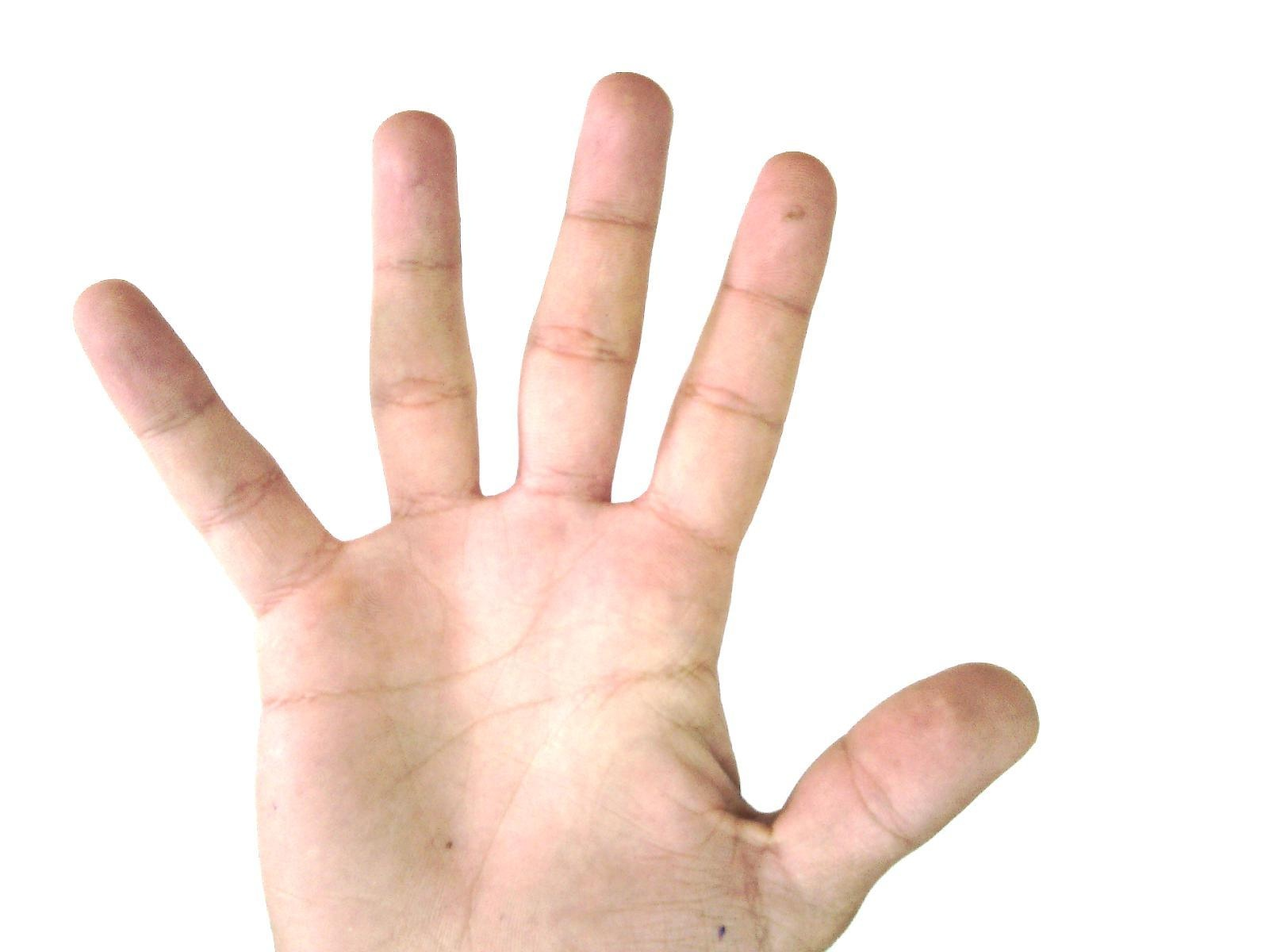open_palm: (71, 70, 1042, 951)
